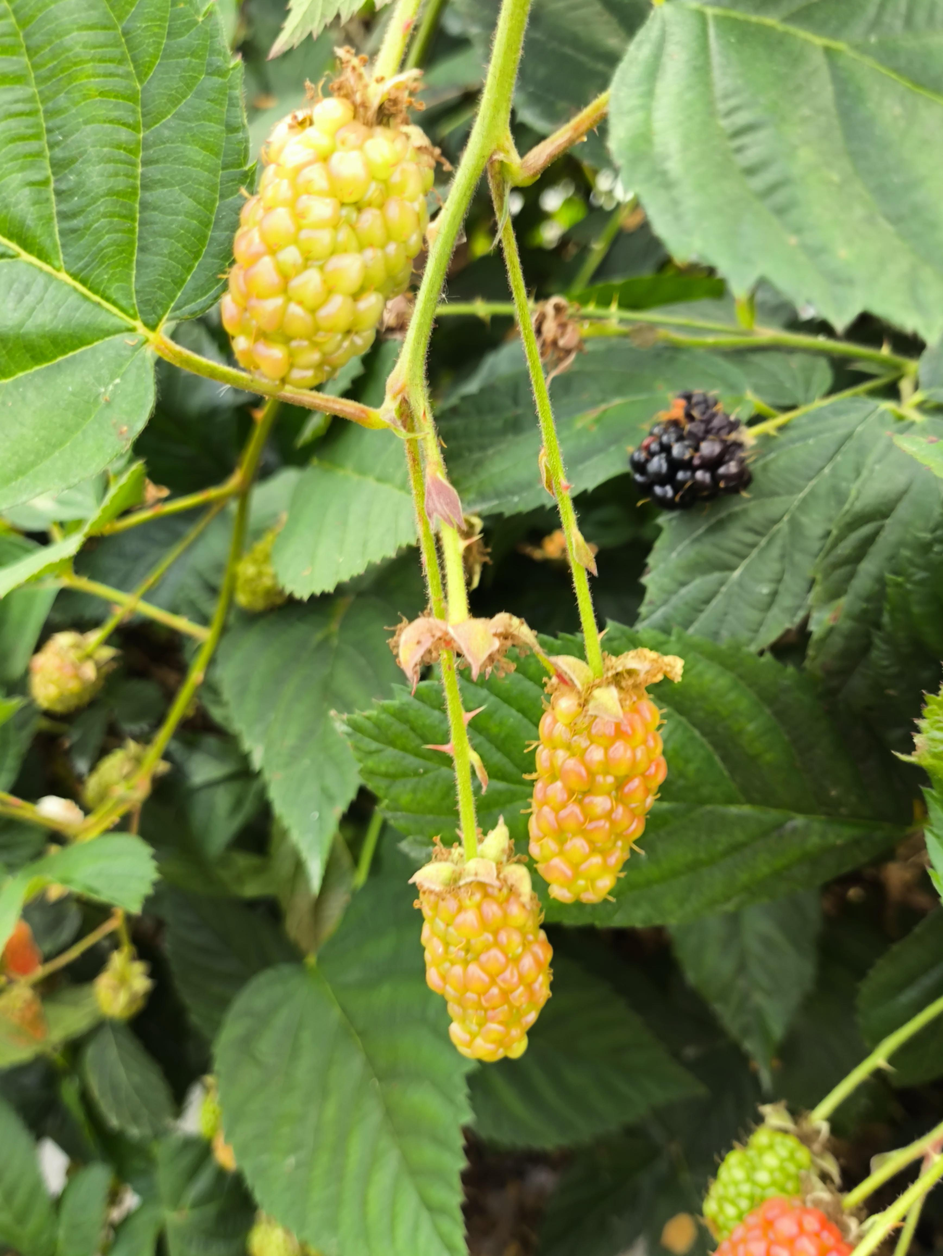maduro: (629, 392, 752, 509)
verde: (221, 95, 434, 388), (529, 686, 667, 904), (414, 856, 552, 1062), (703, 1125, 812, 1239), (30, 631, 119, 714)
